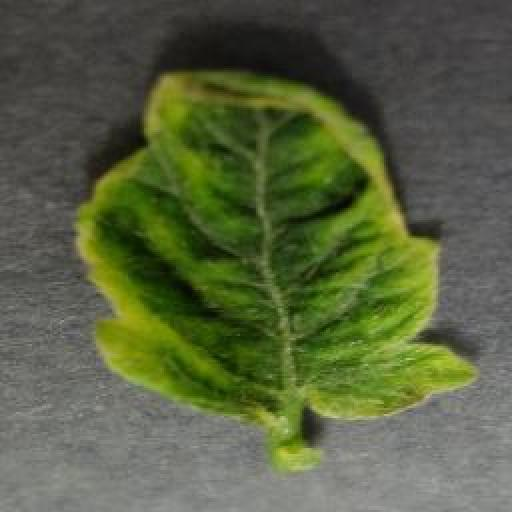Yellow Leaf Curl Virus: (68, 68, 486, 423)
